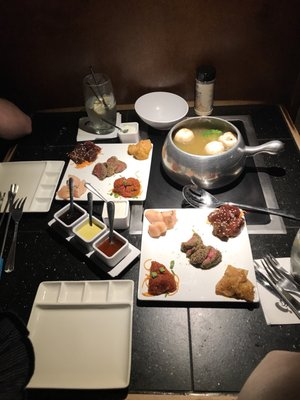sandwich: (1, 194, 28, 279)
sushi: (162, 115, 284, 192), (134, 91, 189, 131)
